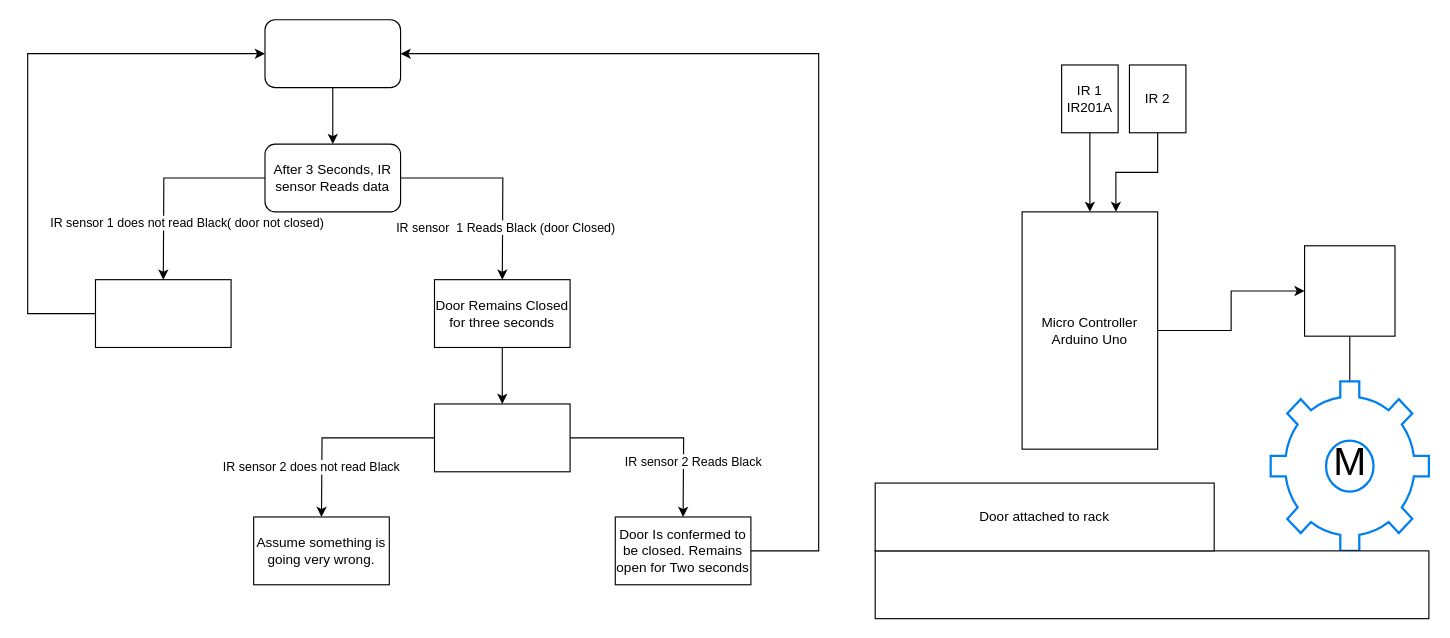
The diagram is 1450 pixels wide and 638 high, and some of its shapes have lost their labels. Each missing label, with the box of its shape:
Door Starts moving to close position (starts in open position): (264, 19, 401, 88)
Door Starts moving to Open position. After Three Seconds, read IR sensor 2 data: (433, 403, 570, 472)
Move Door back to open position and make a buzzer beep: (94, 279, 231, 347)
RACK: (874, 550, 1429, 619)
Stepper Motor Driver A5984: (1303, 245, 1395, 336)
